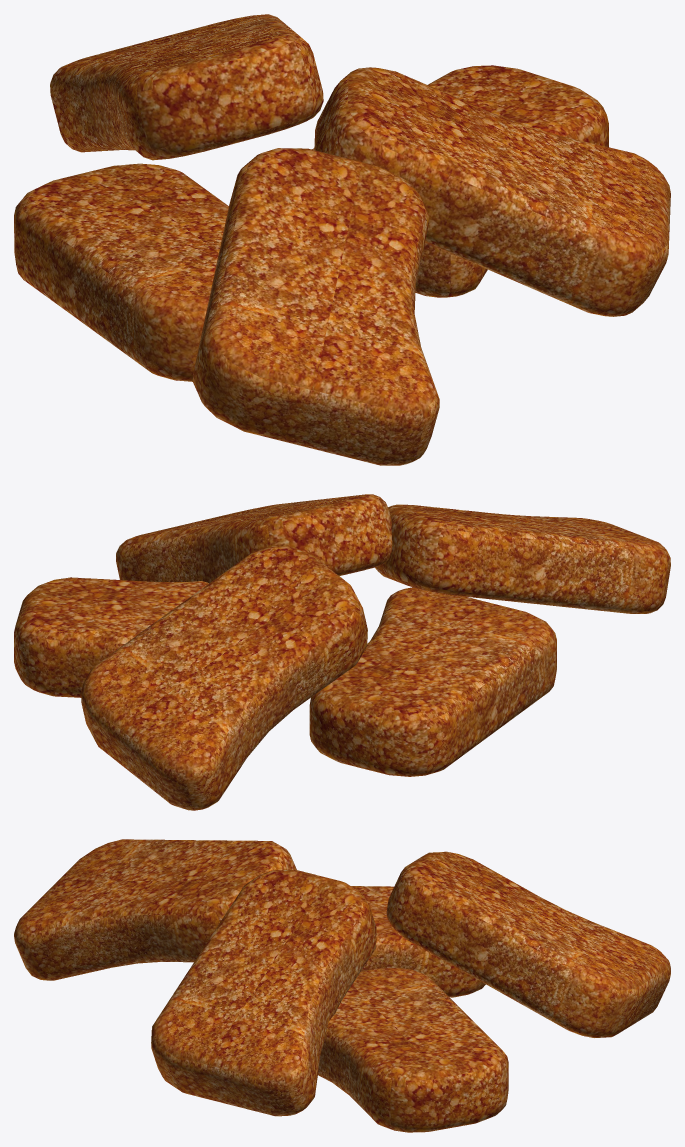
The model's file is batch kipnuggets.fbx.
The picture shows the model from 3 angles, top to bottom: view 1: azimuth 30°, elevation 25°; view 2: azimuth 150°, elevation 25°; view 3: azimuth 270°, elevation 25°; orthographic projection. The views are drawn at different scales.
Parts seen in each view (by area): view 1: Cube.014, Cube.013, Cube.011, Cube.001, Cube; view 2: Cube.001, Cube.011, Cube.014, Cube.013, Cube; view 3: Cube.013, Cube.001, Cube.014, Cube, Cube.011.
Part boxes in pixels (<box>): Cube.014: <box>193,148,439,465</box>; Cube.013: <box>314,67,670,316</box>; Cube.011: <box>14,163,228,381</box>; Cube.001: <box>50,14,323,160</box>; Cube: <box>312,65,608,297</box>; Cube.001: <box>81,546,367,810</box>; Cube.011: <box>309,587,556,776</box>; Cube.014: <box>375,504,670,613</box>; Cube.013: <box>116,494,392,583</box>; Cube: <box>14,577,208,697</box>; Cube.013: <box>151,869,376,1116</box>; Cube.001: <box>386,851,670,1037</box>; Cube.014: <box>14,839,296,980</box>; Cube: <box>318,967,508,1132</box>; Cube.011: <box>351,886,485,997</box>.
Size of the model in its own units: 7.84 by 2.64 by 10.14.
